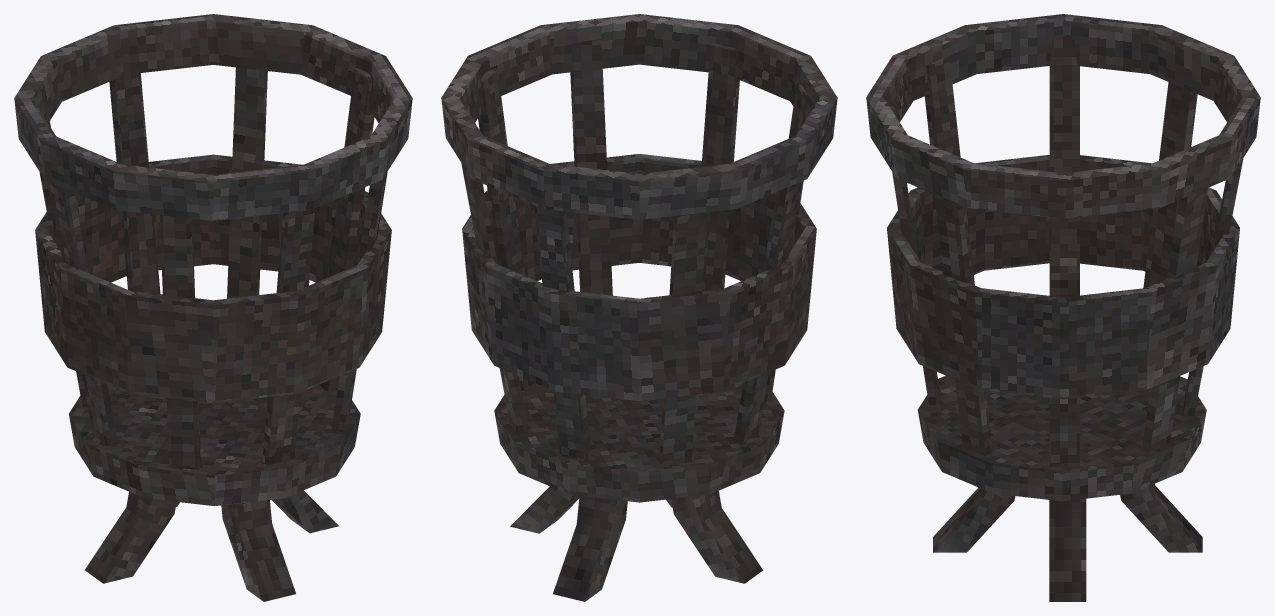
Rendered from Brazier_1.gltf.
3 views of the same model, side by side, from view 1: azimuth 30°, elevation 25°; view 2: azimuth 150°, elevation 25°; view 3: azimuth 270°, elevation 25° (orthographic).
Parts seen in each view (by area): view 1: Brazier_1; view 2: Brazier_1; view 3: Brazier_1.
Part boxes in pixels (x1=…): Brazier_1: x1=14, y1=14, x2=412, y2=601; Brazier_1: x1=441, y1=14, x2=837, y2=601; Brazier_1: x1=866, y1=14, x2=1260, y2=601.
Bounding box in the file's own units: 2.56 × 3.21 × 2.56.
Materials: 1 (1 with a texture image).
